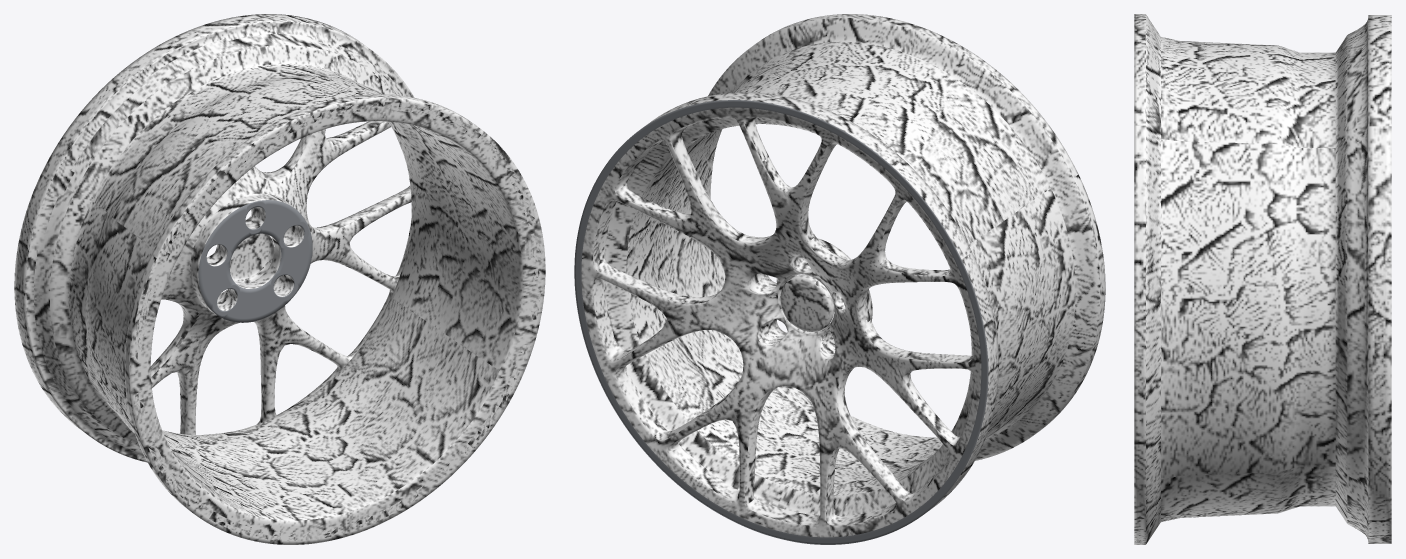
3 views of the same model, side by side, from view 1: azimuth 30°, elevation 25°; view 2: azimuth 150°, elevation 25°; view 3: azimuth 270°, elevation 25° (orthographic). The views are drawn at different scales.
Visible parts, largest first — view 1: Tire; view 2: Tire; view 3: Tire.
Part boxes in pixels (<box>): Tire: <box>14,14,545,544</box>; Tire: <box>574,14,1105,544</box>; Tire: <box>1134,14,1391,544</box>.
Bounding box in the file's own units: 1.08 × 1.08 × 0.5237.
3 materials, 2 textured.
